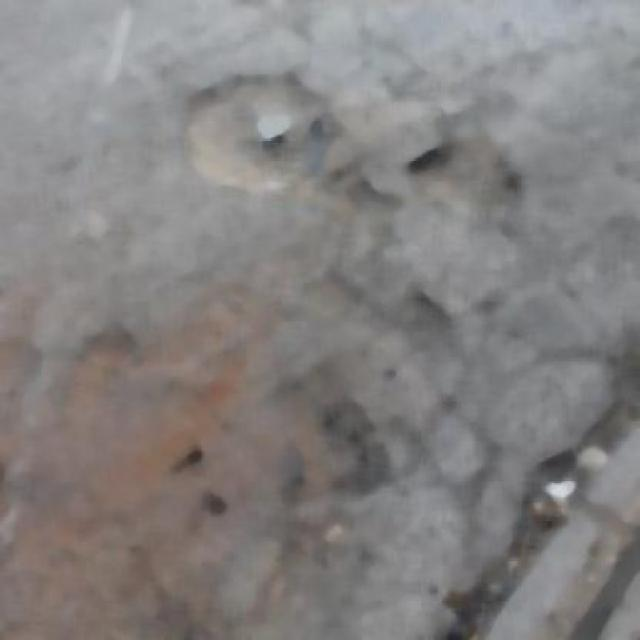Pothole: (184, 78, 345, 207), (402, 133, 526, 227)
